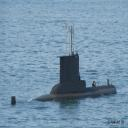submarine: (12, 22, 120, 108)
